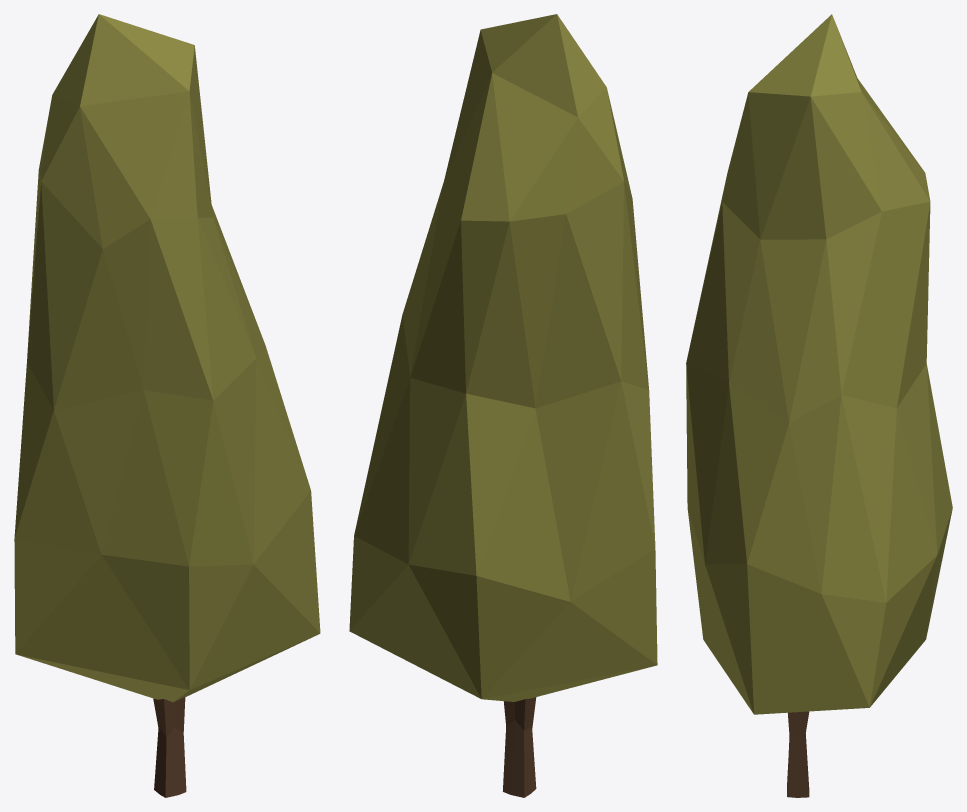
Rendered from Tree_4_Yellow.fbx.
3 renders of one model, left to right at view 1: azimuth 30°, elevation 25°; view 2: azimuth 150°, elevation 25°; view 3: azimuth 270°, elevation 25°, orthographic. The views are drawn at different scales.
Visible parts, largest first — view 1: Tree_4_Yellow_Part_1, Tree_4_Yellow_Part_2; view 2: Tree_4_Yellow_Part_1, Tree_4_Yellow_Part_2; view 3: Tree_4_Yellow_Part_1, Tree_4_Yellow_Part_2.
Boxes of the visible parts, x1,y1,x2,y2 form: Tree_4_Yellow_Part_1: (14, 14, 320, 702); Tree_4_Yellow_Part_2: (153, 697, 186, 797); Tree_4_Yellow_Part_1: (349, 14, 657, 701); Tree_4_Yellow_Part_2: (503, 697, 536, 797); Tree_4_Yellow_Part_1: (686, 14, 952, 714); Tree_4_Yellow_Part_2: (787, 711, 809, 797).
Size of the model in its own units: 295 by 795 by 254.
